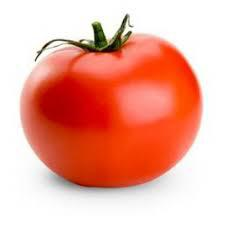tomato: (17, 32, 206, 191)
